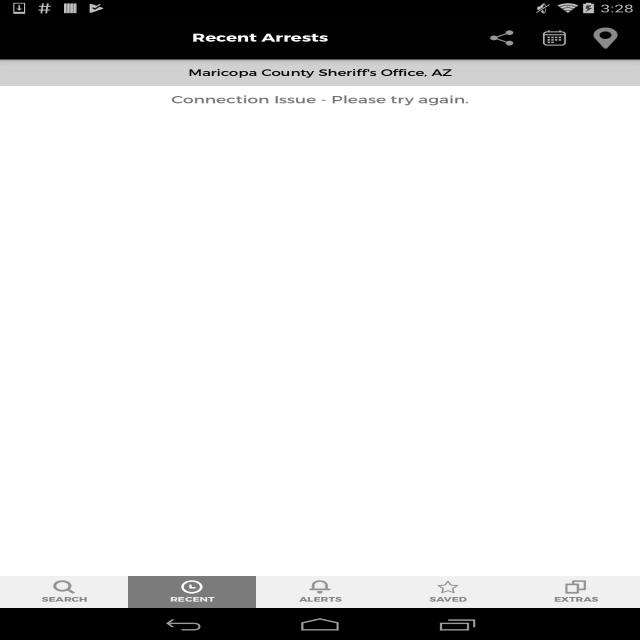ImageView: (53, 580, 75, 594), (181, 580, 203, 594), (309, 580, 331, 594), (437, 580, 459, 594), (565, 580, 587, 594)
TextView: (0, 59, 640, 86), (0, 93, 640, 106), (26, 30, 469, 46), (580, 22, 632, 54), (478, 22, 529, 54), (529, 22, 580, 54), (13, 595, 115, 604), (141, 595, 243, 604), (269, 595, 371, 604), (397, 595, 499, 604), (525, 595, 627, 604)
